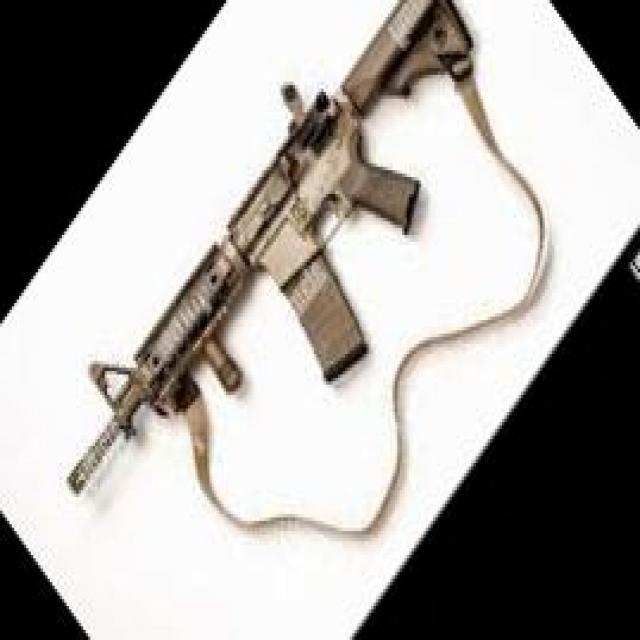weapon: (66, 0, 474, 497)
